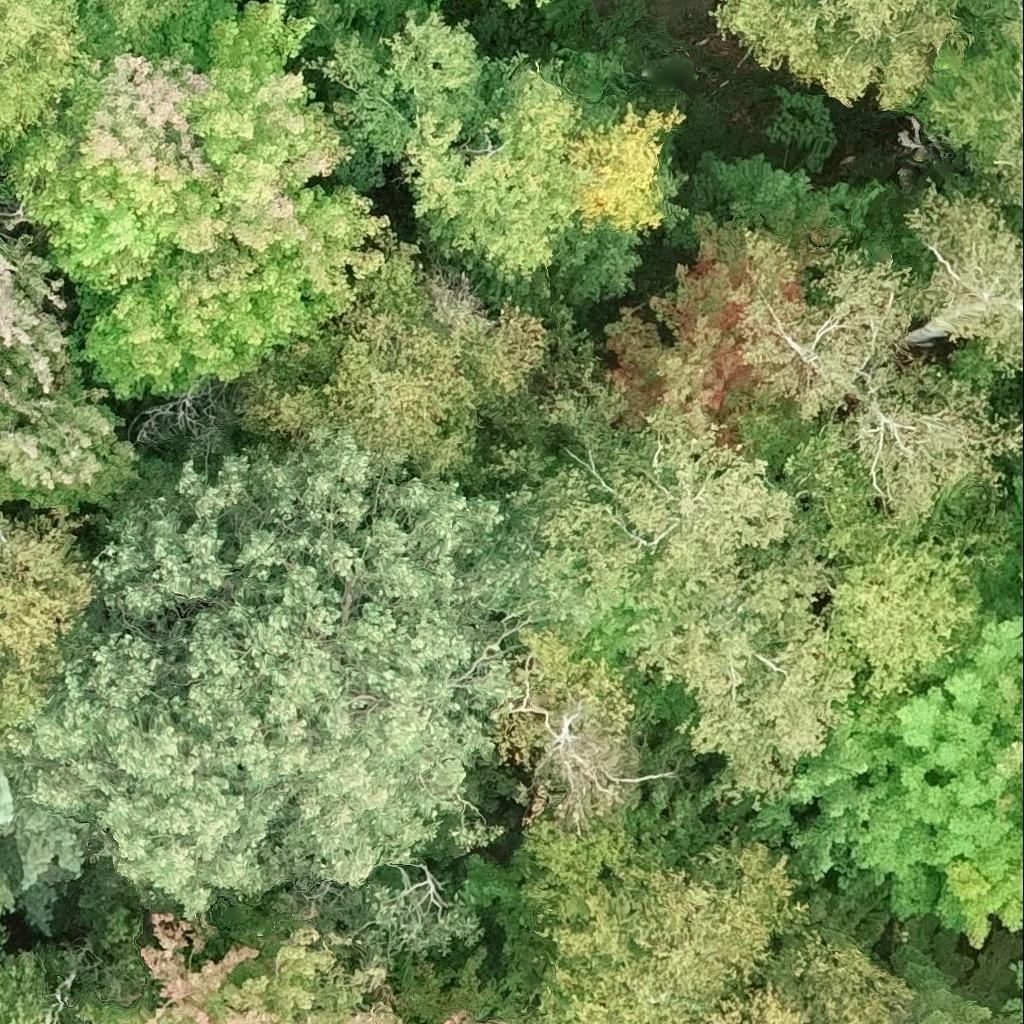crown: (0, 0, 389, 401), (317, 10, 688, 313), (606, 199, 853, 435), (727, 226, 920, 423), (662, 89, 884, 248), (836, 362, 1023, 525), (713, 0, 971, 108), (902, 178, 1023, 379), (933, 0, 1023, 205), (0, 0, 87, 149), (76, 0, 182, 36), (537, 0, 553, 6), (506, 0, 521, 6), (432, 0, 445, 5)
